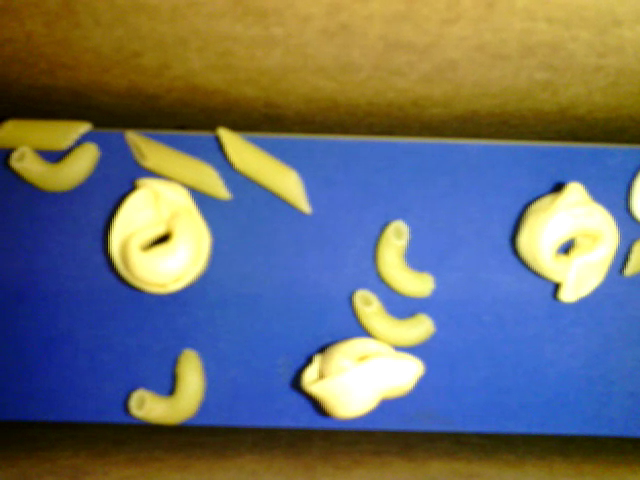elbow: (128, 347, 206, 426), (375, 217, 434, 298), (351, 288, 433, 346), (11, 140, 100, 191)
penne: (217, 125, 312, 212), (124, 130, 232, 199), (1, 120, 94, 150)
tortellini: (515, 180, 618, 300), (106, 178, 212, 293), (298, 337, 427, 419)
